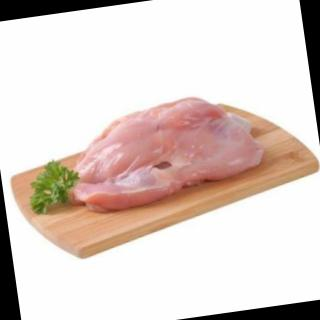Ayam: (61, 89, 265, 211)
